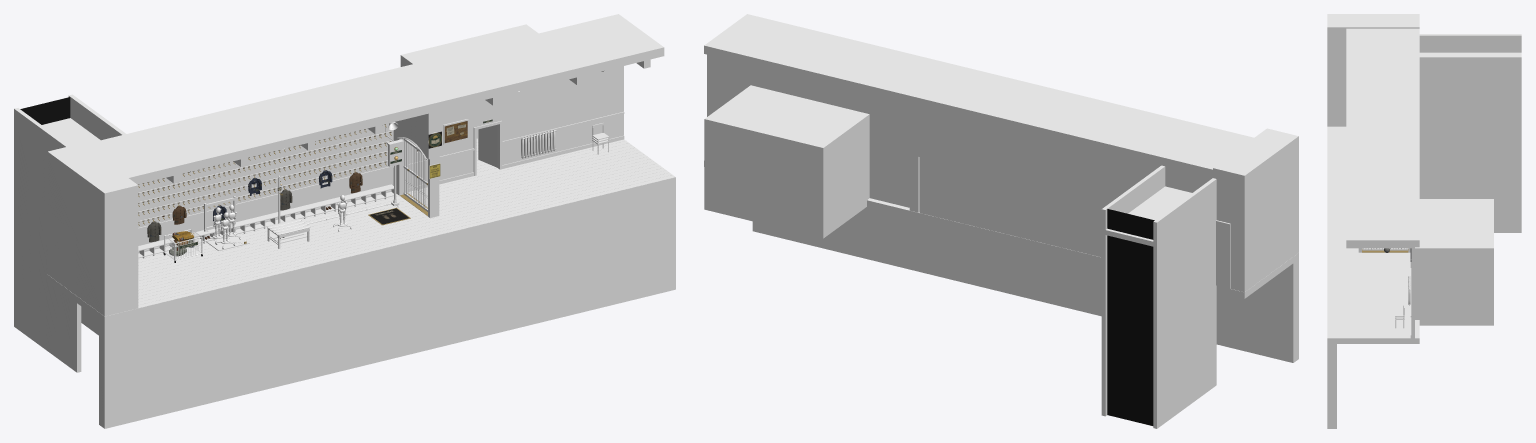
3 views of the same model, side by side, from view 1: azimuth 30°, elevation 25°; view 2: azimuth 150°, elevation 25°; view 3: azimuth 270°, elevation 25° (orthographic). The views are drawn at different scales.
Visible parts, largest first — view 1: AttCloakroom, AttGate; view 2: AttCloakroom; view 3: AttCloakroom.
Boxes of the visible parts, x1,y1,x2,y2 form: AttCloakroom: (14, 14, 675, 428); AttGate: (403, 139, 427, 211); AttCloakroom: (704, 14, 1298, 428); AttCloakroom: (1327, 14, 1521, 428).
Size of the model in its own units: 17 by 6.7 by 6.2.
Materials: 28 (2 with a texture image).
